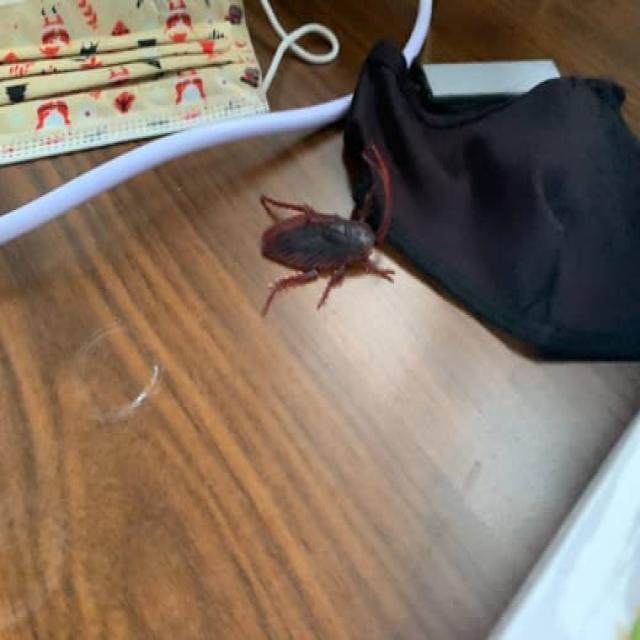Cockroach: (248, 133, 398, 323)
